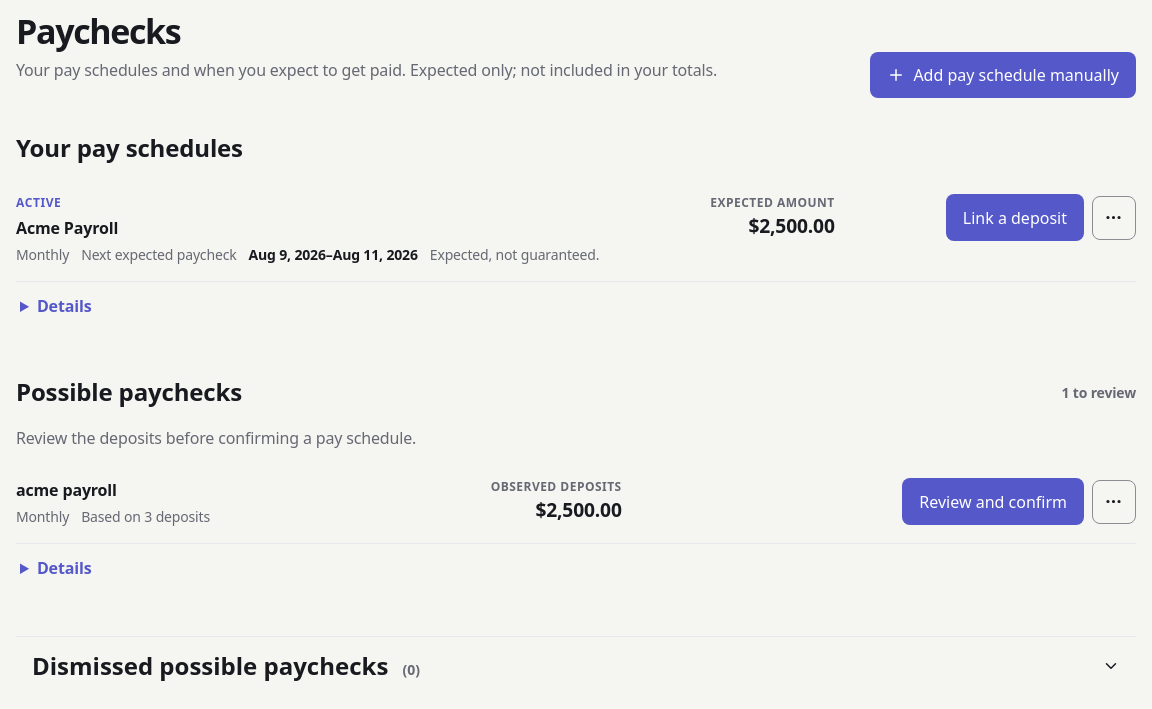
Paychecks page › clears an orphaned end confirmation when the refresh shows the profile now paused
The width and height of the screenshot is (1152, 709).
Expected: the heading "Your pay schedules" is shown, x1=16 y1=130 x2=243 y2=166
Click the heading named "Details for Acme Payroll" at x=64, y=306, box x1=37 y1=295 x2=91 y2=317
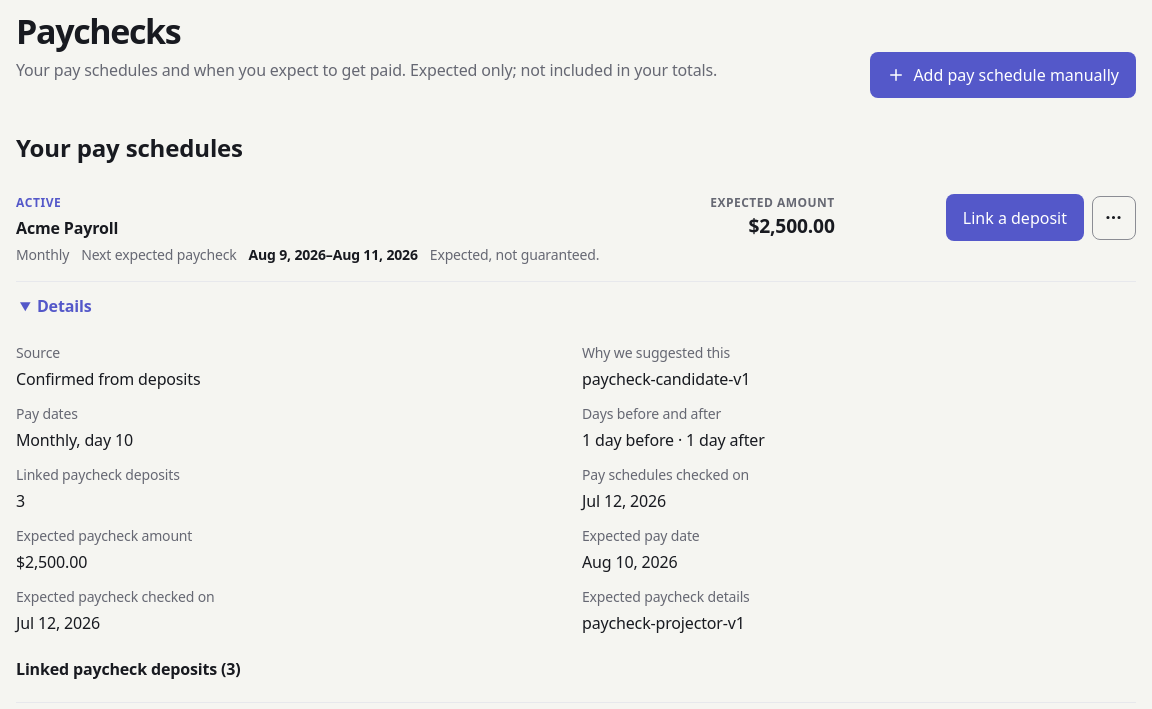
Click the button named "Actions for Acme Payroll" at x=1114, y=218, box x1=1092 y1=196 x2=1136 y2=240
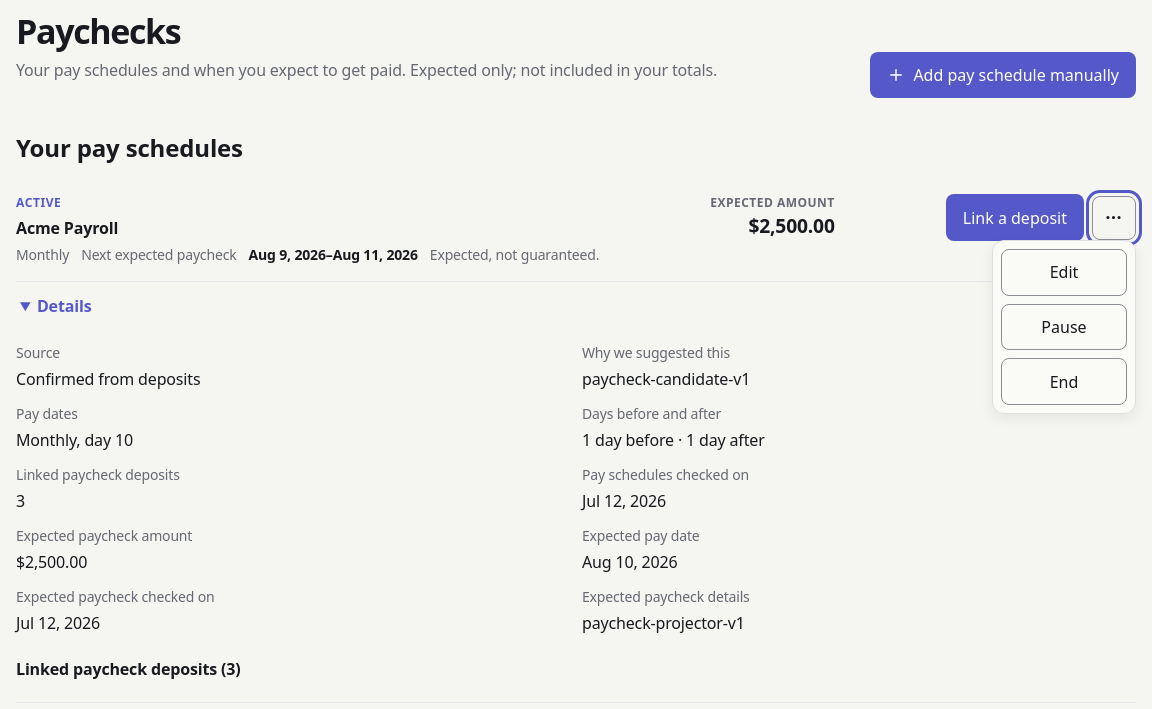
Click the button with aria-label "End Acme Payroll" at x=1064, y=382, box x1=1001 y1=358 x2=1127 y2=405
(page scrolled)
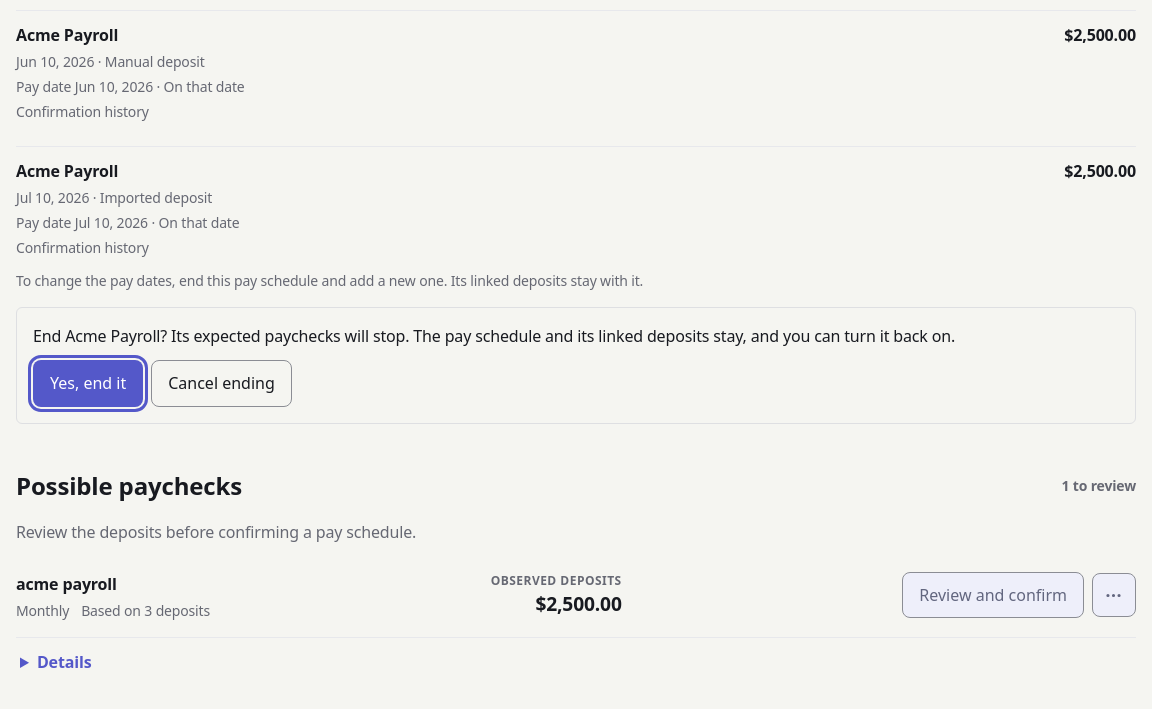
Click the button "Yes, end it" at x=88, y=383, box x1=33 y1=360 x2=143 y2=407
(page scrolled)
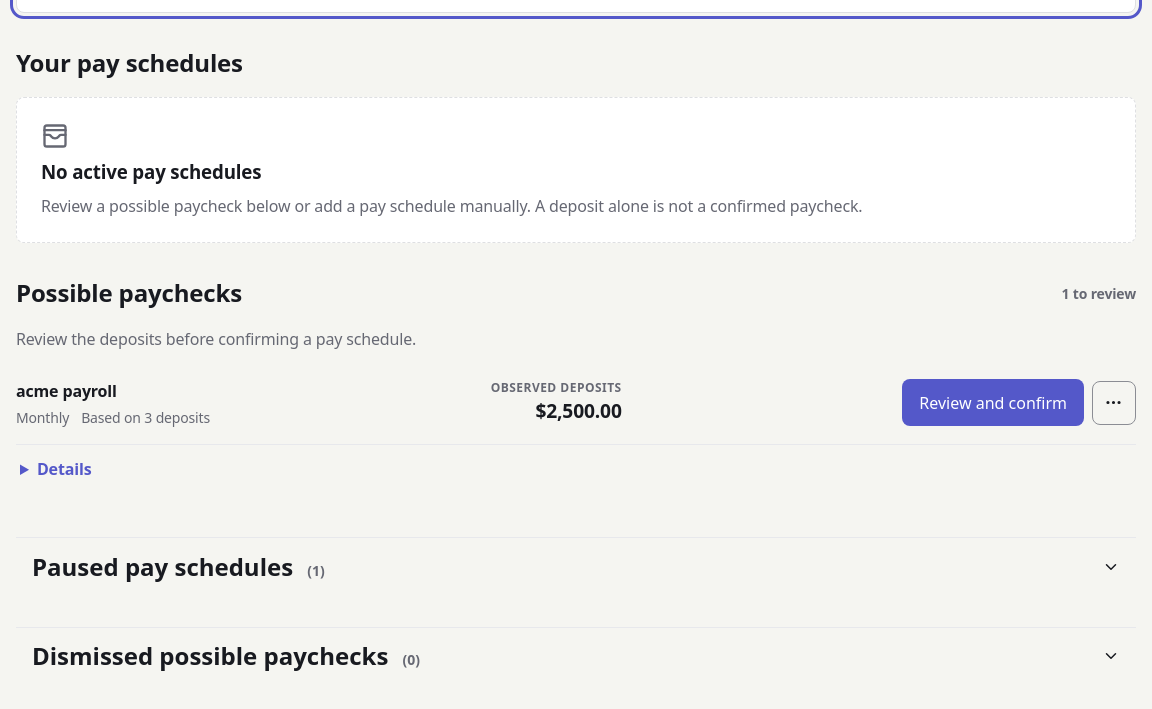
Now the text "End Acme Payroll" is gone
Now the button with aria-label "Review and confirm: acme payroll" is enabled, box x1=902 y1=379 x2=1084 y2=426
Now the heading "Paused pay schedules (1)" is shown, box x1=16 y1=538 x2=1136 y2=595
